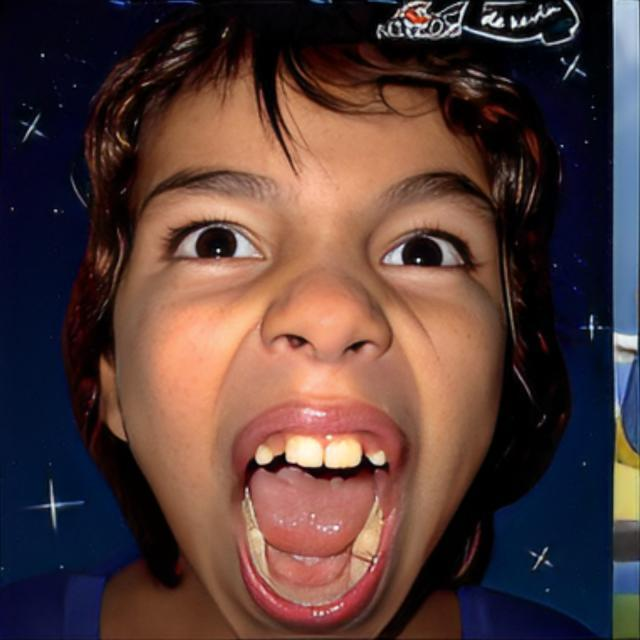surprise: (109, 40, 512, 640)
